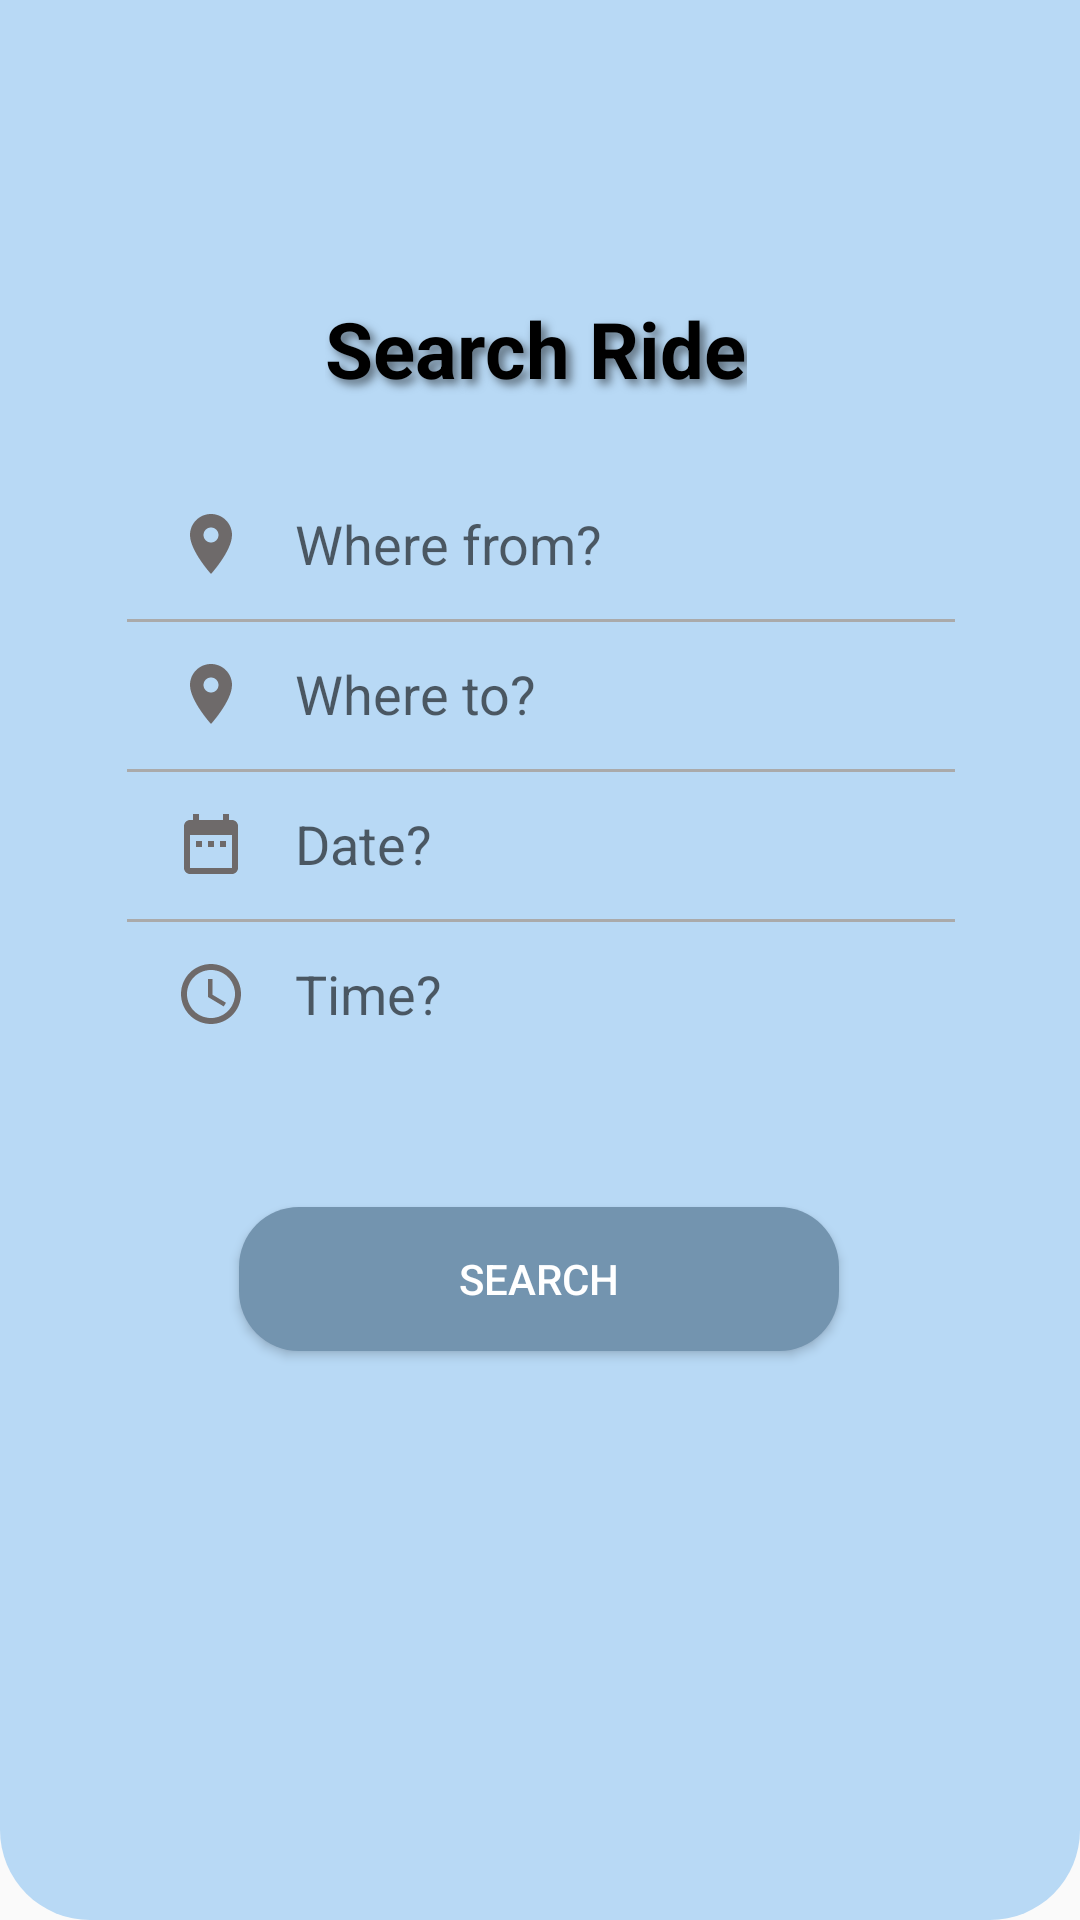

Locate icon controls on the screen. Image size 1080px x 1920px, boxes as [left=x1, top=y1, right=x2, bottom=y2].
loc: [left=190, top=514, right=232, bottom=574], [left=190, top=664, right=232, bottom=724]
